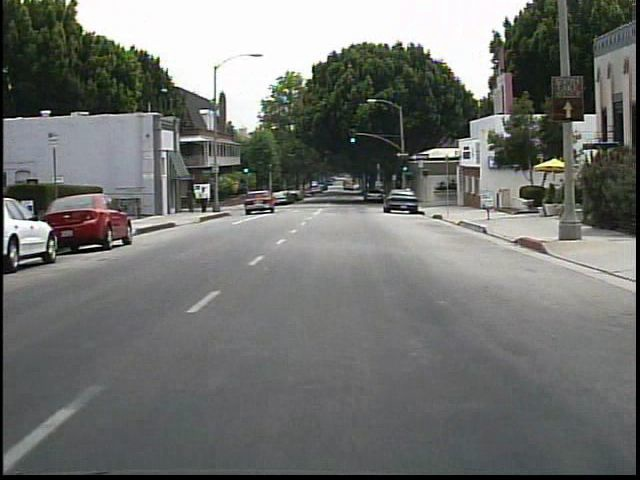person: (186, 185, 199, 214), (200, 186, 212, 214)
